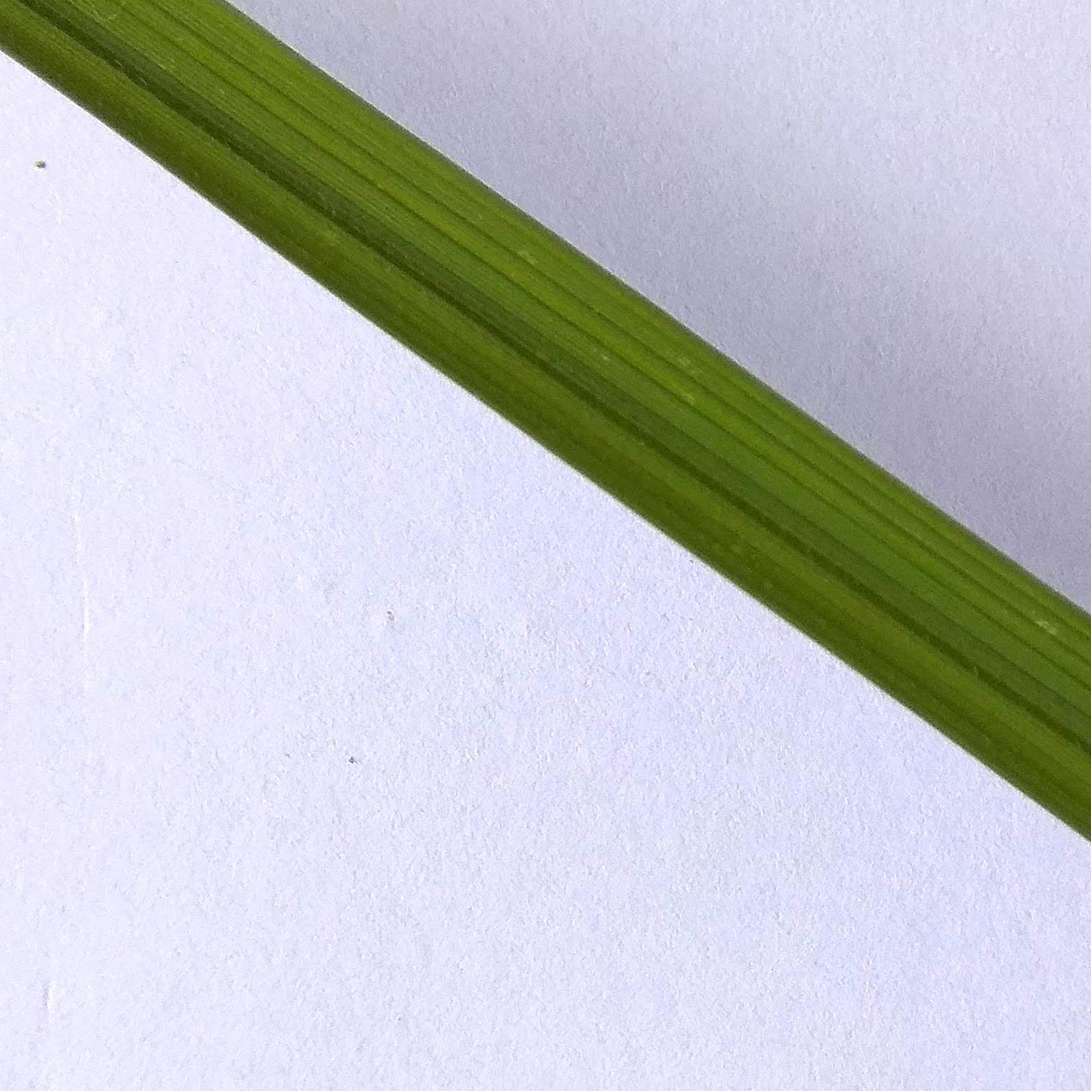Healthy: (0, 0, 1090, 839)
